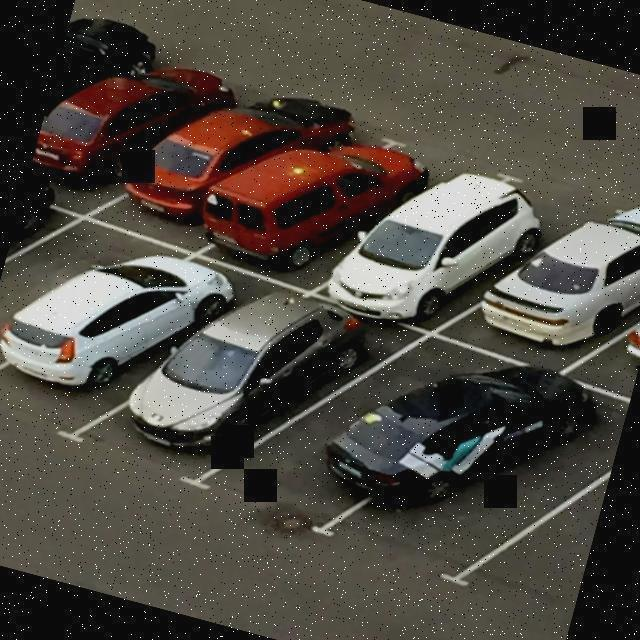car: (195, 280, 529, 572), (66, 241, 410, 524), (172, 97, 489, 333), (345, 333, 631, 594), (304, 134, 605, 366), (0, 221, 277, 464), (92, 55, 382, 268), (434, 159, 640, 391), (30, 37, 268, 222), (39, 10, 162, 154), (559, 243, 640, 404)
free: (448, 378, 627, 626), (0, 188, 182, 399)
